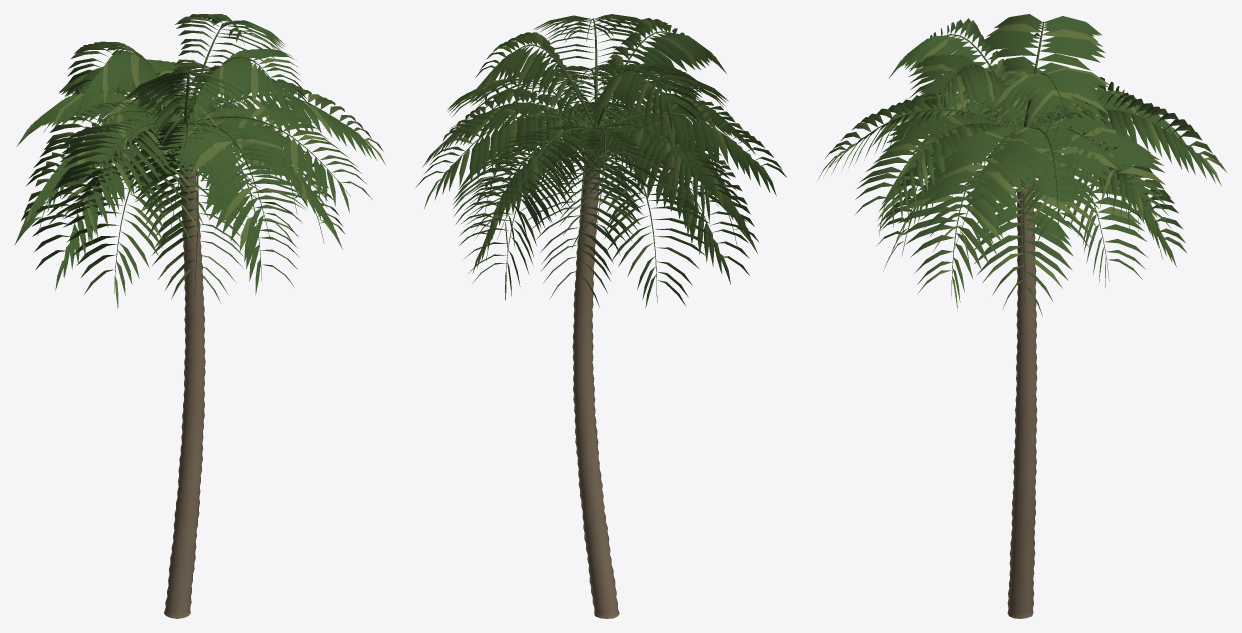
File: palm.glb
The picture shows the model from 3 angles, left to right: view 1: azimuth 30°, elevation 25°; view 2: azimuth 150°, elevation 25°; view 3: azimuth 270°, elevation 25°; orthographic projection.
Parts seen in each view (by area): view 1: palm-frond, wood, palm-frond-light; view 2: palm-frond, wood, palm-frond-light; view 3: palm-frond, palm-frond-light, wood.
Part boxes in pixels (left/top/right/bottom): palm-frond: left=14, top=14, right=376, bottom=302; wood: left=164, top=162, right=205, bottom=618; palm-frond-light: left=22, top=16, right=385, bottom=308; palm-frond: left=415, top=14, right=786, bottom=307; wood: left=572, top=115, right=619, bottom=618; palm-frond-light: left=431, top=14, right=758, bottom=293; palm-frond: left=818, top=14, right=1219, bottom=316; palm-frond-light: left=842, top=20, right=1226, bottom=311; wood: left=1007, top=116, right=1037, bottom=618.
Bounding box in the file's own units: 7.28 × 11.89 × 7.78.
